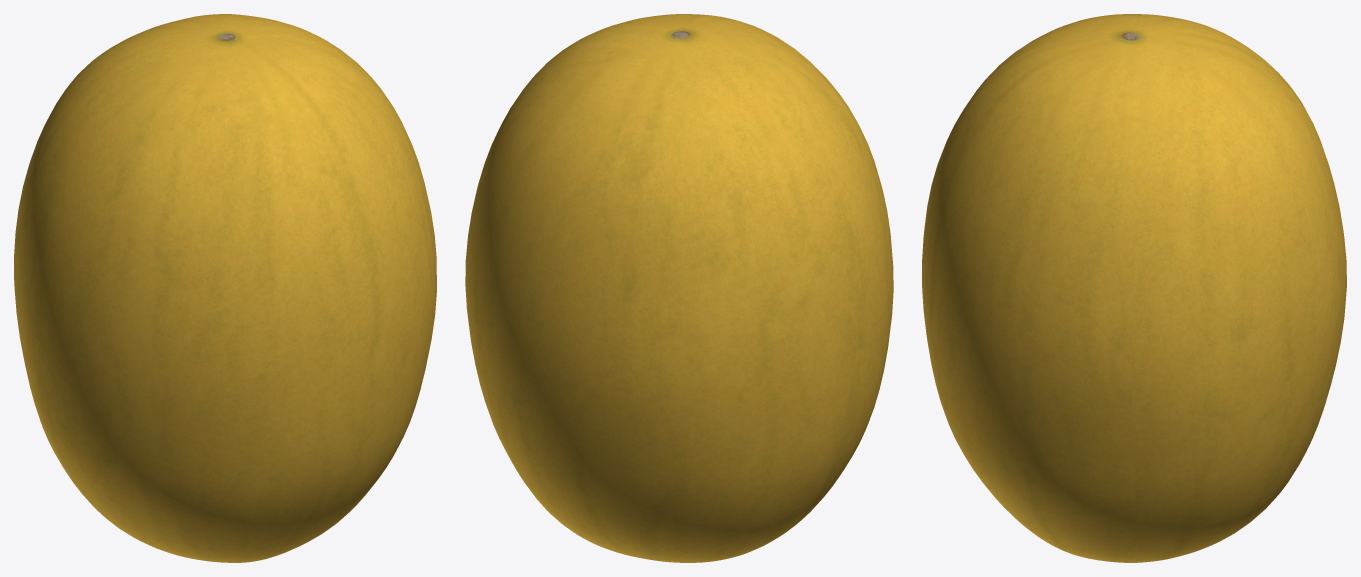
The model's file is fmelon.glb.
3 views of the same model, side by side, from view 1: azimuth 30°, elevation 25°; view 2: azimuth 150°, elevation 25°; view 3: azimuth 270°, elevation 25° (orthographic).
Visible parts, largest first — view 1: 12206_Fruit_v1_L3; view 2: 12206_Fruit_v1_L3; view 3: 12206_Fruit_v1_L3.
Part boxes in pixels (x1,y1,x2,y2): 12206_Fruit_v1_L3: (14, 14, 436, 562); 12206_Fruit_v1_L3: (465, 14, 893, 562); 12206_Fruit_v1_L3: (922, 14, 1346, 562).
Bounding box in the file's own units: 2.12 × 2.81 × 2.12.
Materials: 1 (1 with a texture image).
